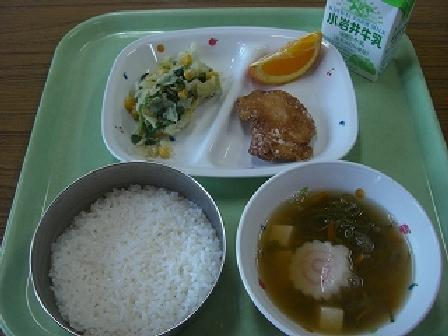Citrus: (238, 22, 328, 85)
Milk: (320, 0, 418, 81)
Rice: (41, 158, 234, 335)
Salad: (120, 47, 224, 160)
Soups: (247, 163, 438, 335)
cutlet: (228, 81, 324, 168)
